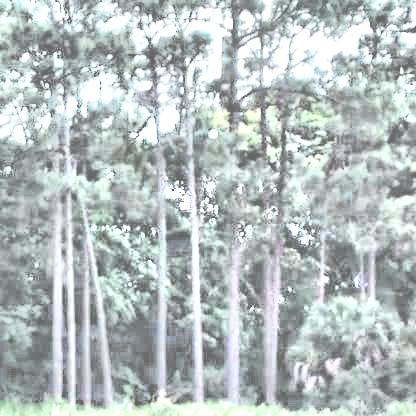golfball: (207, 126, 216, 136)
